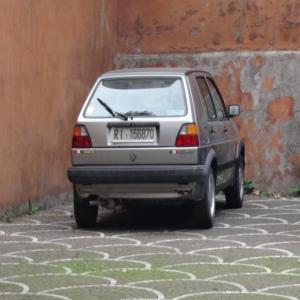Vehicle-registration-plate: (112, 127, 157, 144)
